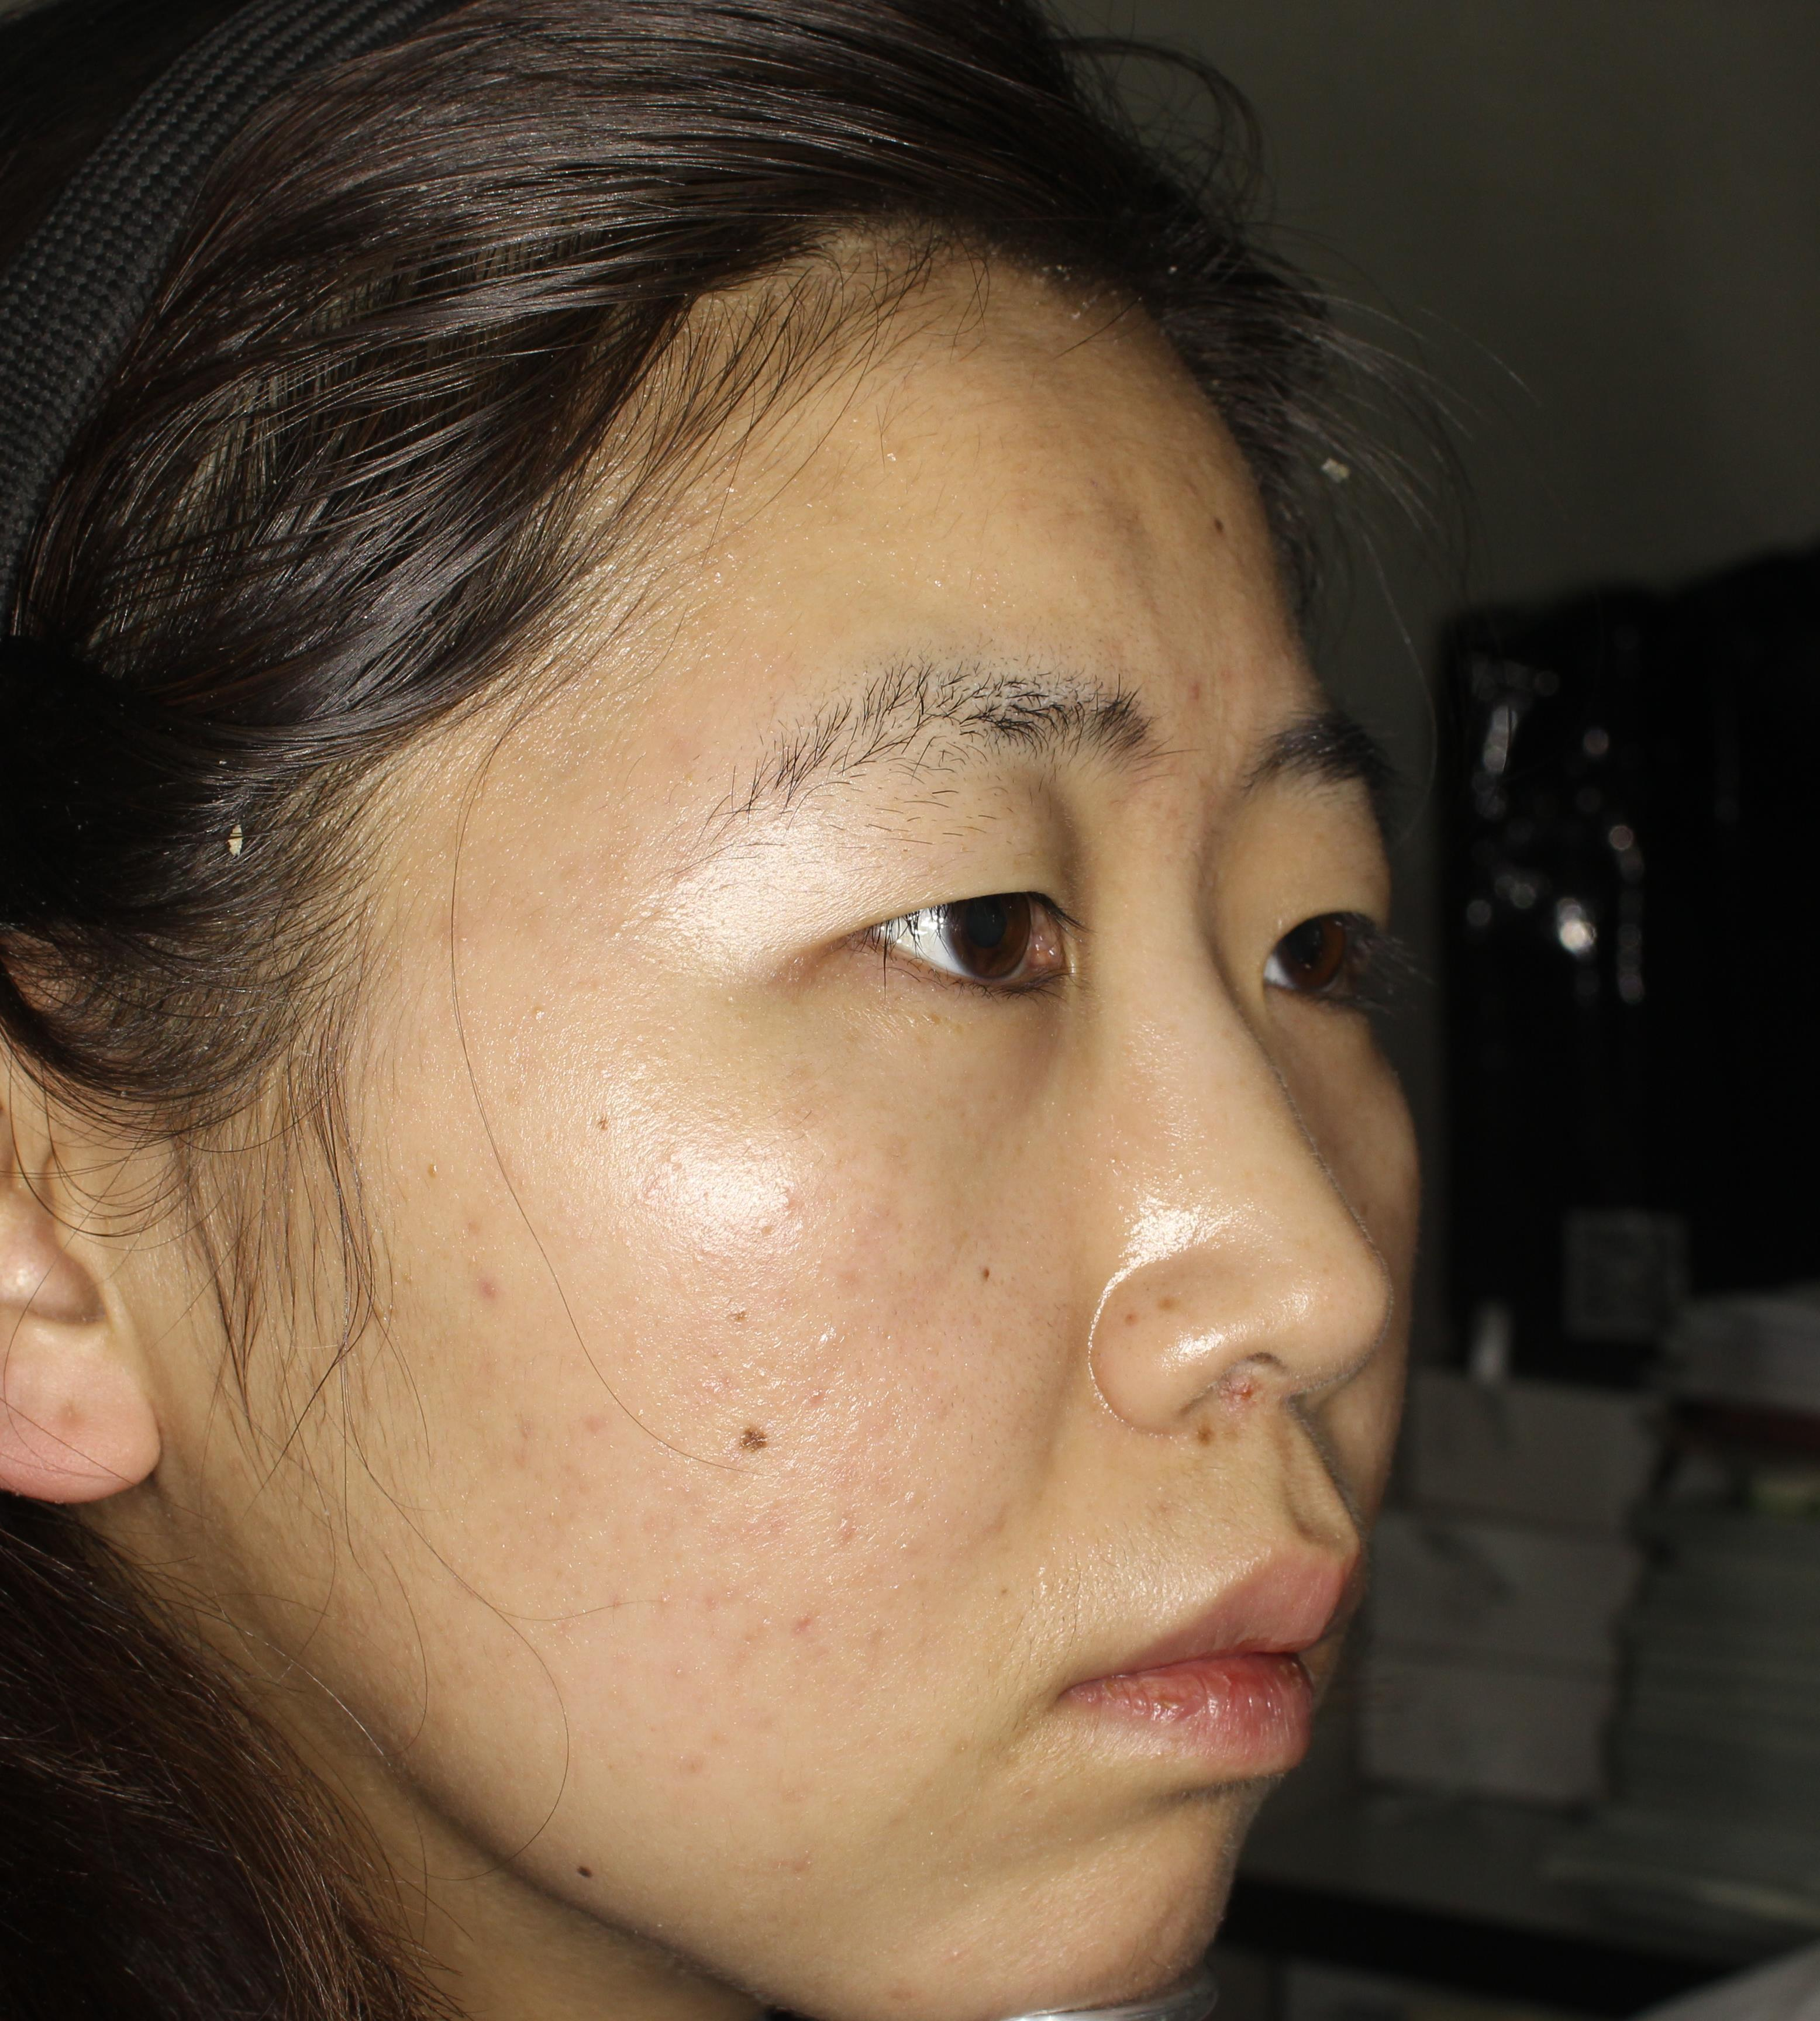fore: (1166, 1375, 1265, 1459)
